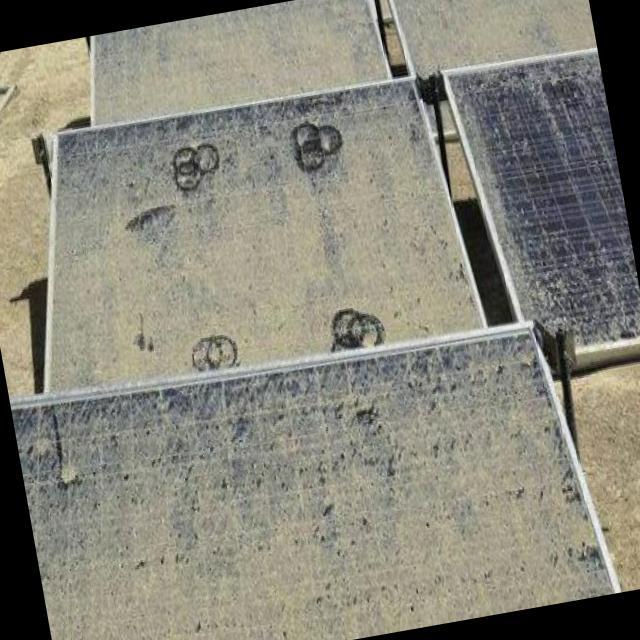faulty: (19, 331, 580, 640), (58, 77, 461, 385), (473, 50, 640, 348), (89, 0, 376, 125), (402, 0, 595, 67)
